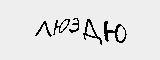Д: (81, 17, 102, 44)
Л: (34, 21, 51, 37)
Э: (68, 16, 79, 34)
Ю: (100, 20, 129, 46), (51, 18, 69, 34)
